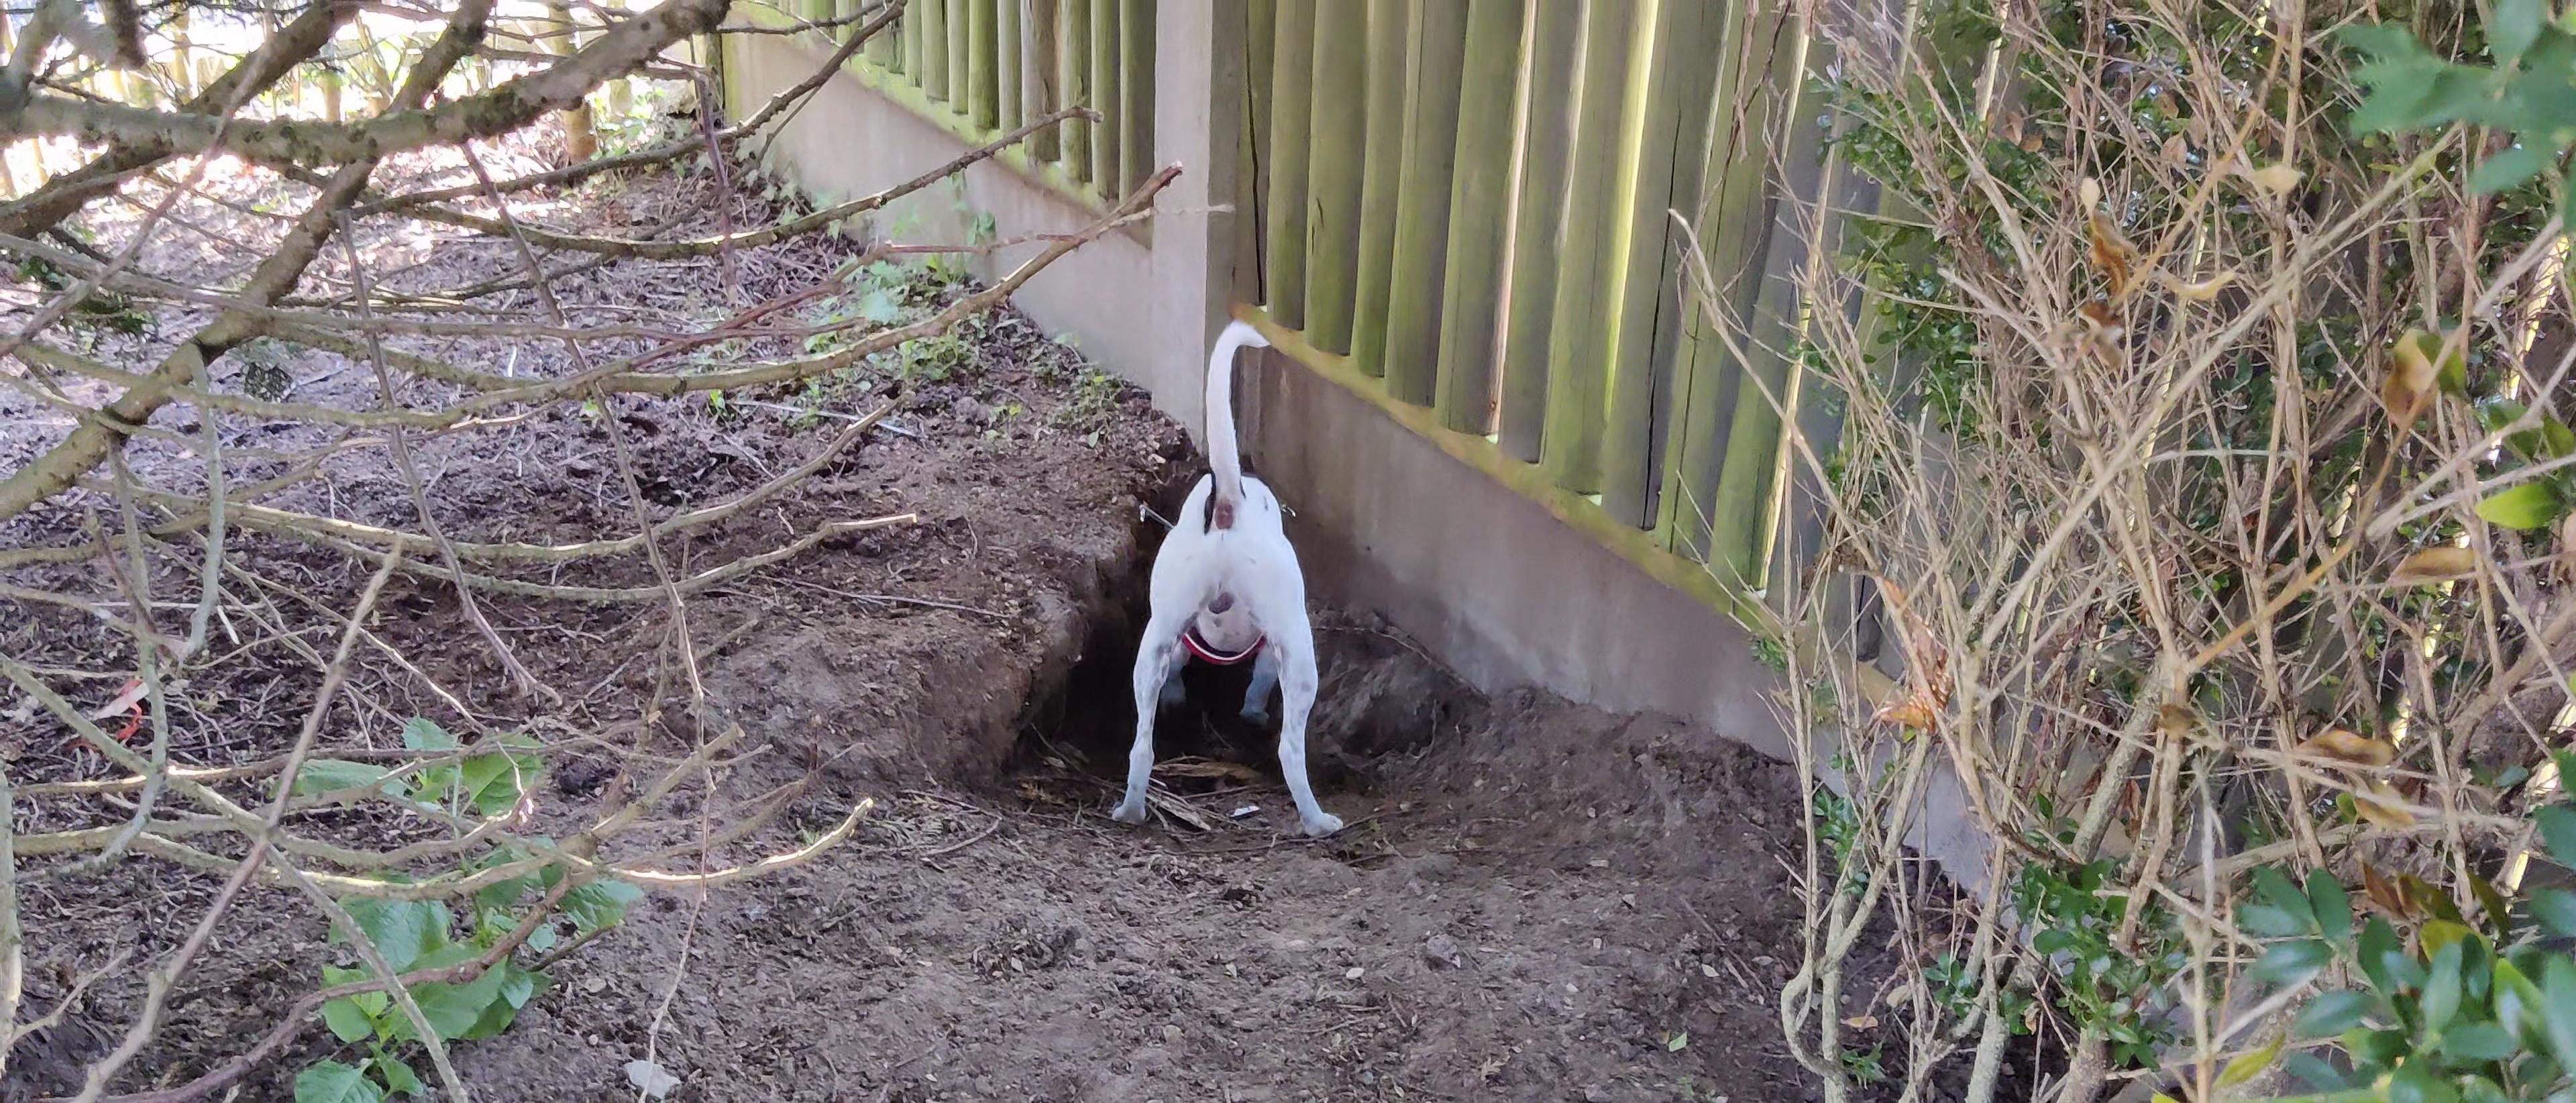Dog: (1099, 306, 1360, 853)
